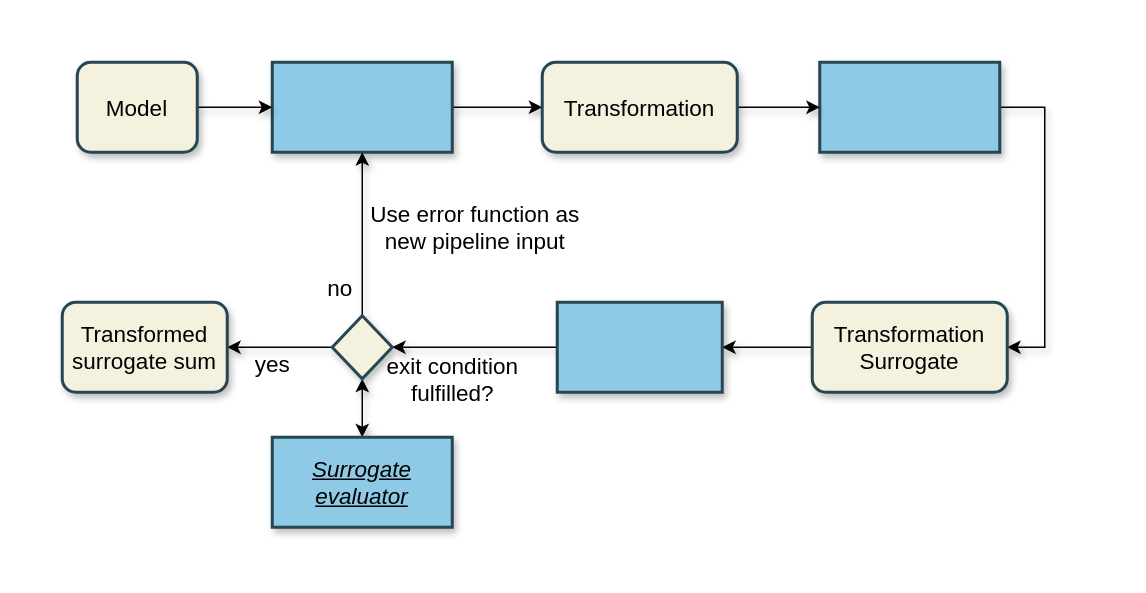
The diagram is 1146 pixels wide and 593 high, and some of its shapes have lost their labels. The centre of each missing label's shape, as x and y in pixels:
"Sum up surrogates" belongs at (640,349).
"Surrogate Generator" belongs at (911,109).
"Transformation Generator" belongs at (363,109).
